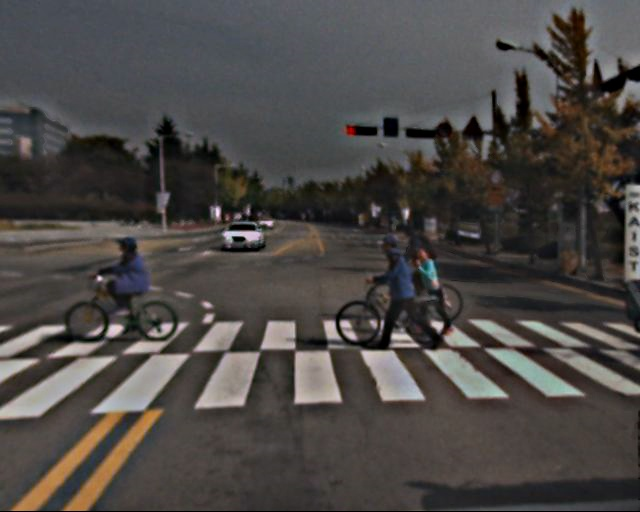person: (394, 215, 444, 338), (377, 240, 426, 348), (108, 235, 155, 336), (408, 241, 451, 338)
